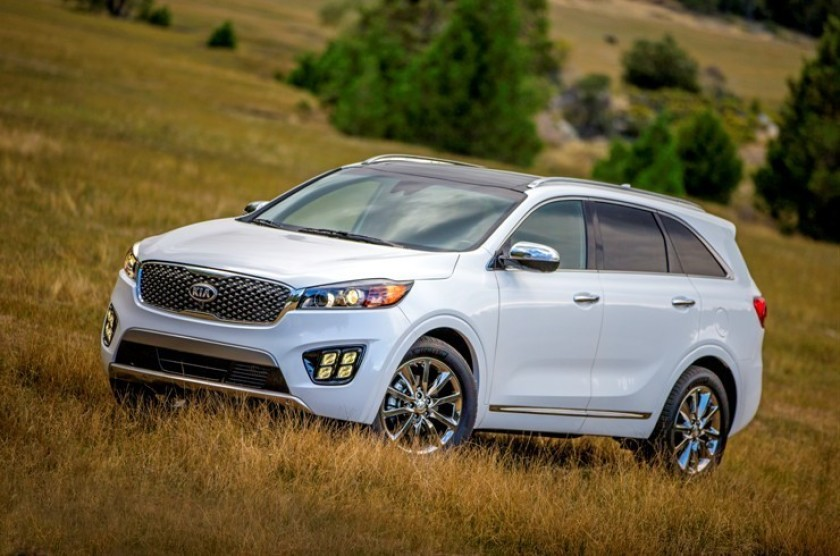Camioneta: (98, 139, 774, 488)
